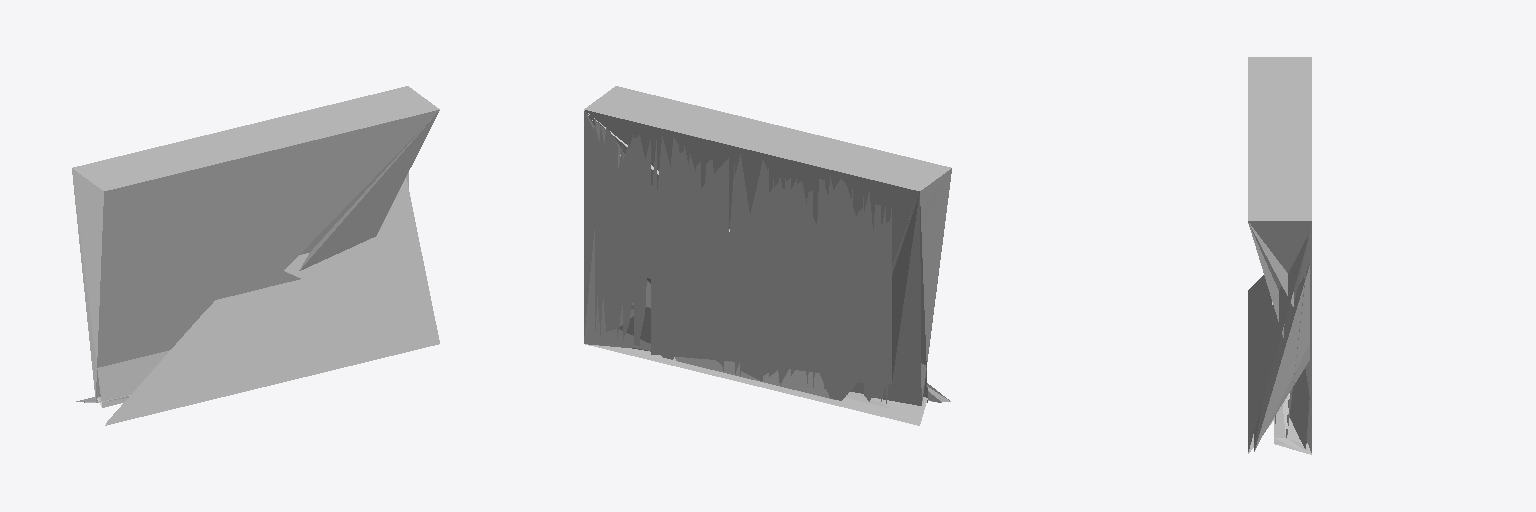
Rendered from Green House Wall 2.obj.
The picture shows the model from 3 angles: view 1: azimuth 30°, elevation 25°; view 2: azimuth 150°, elevation 25°; view 3: azimuth 270°, elevation 25°; orthographic projection.
Size of the model in its own units: 60 by 40 by 10.